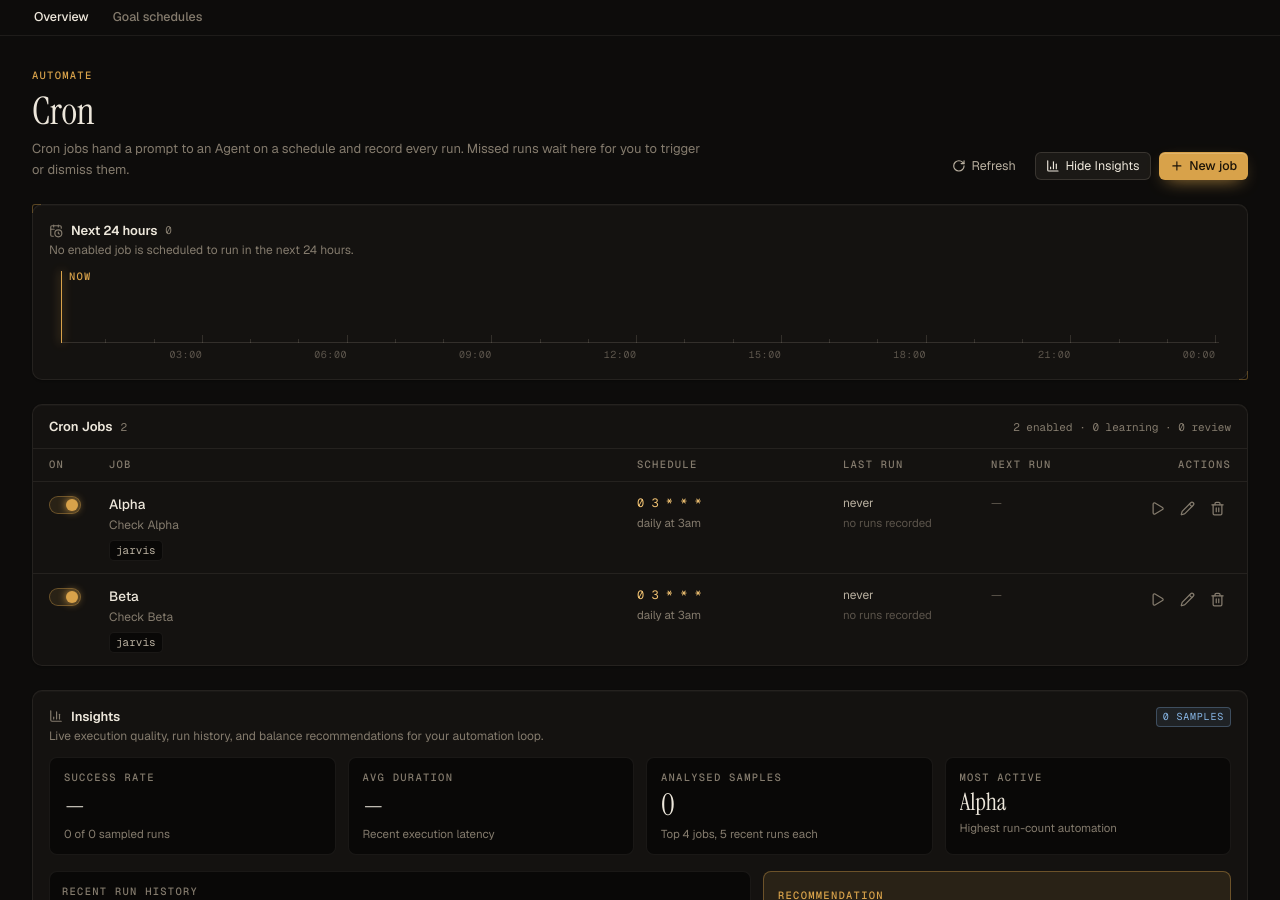
Test: Cron operational mutation coordination › requires an explicit true result for delete_cron_job
Expected: the 1st text "Alpha" is shown, [109,494,145,514]
Click the button named "Delete Alpha" at (1217, 508), box [1203,494,1231,522]
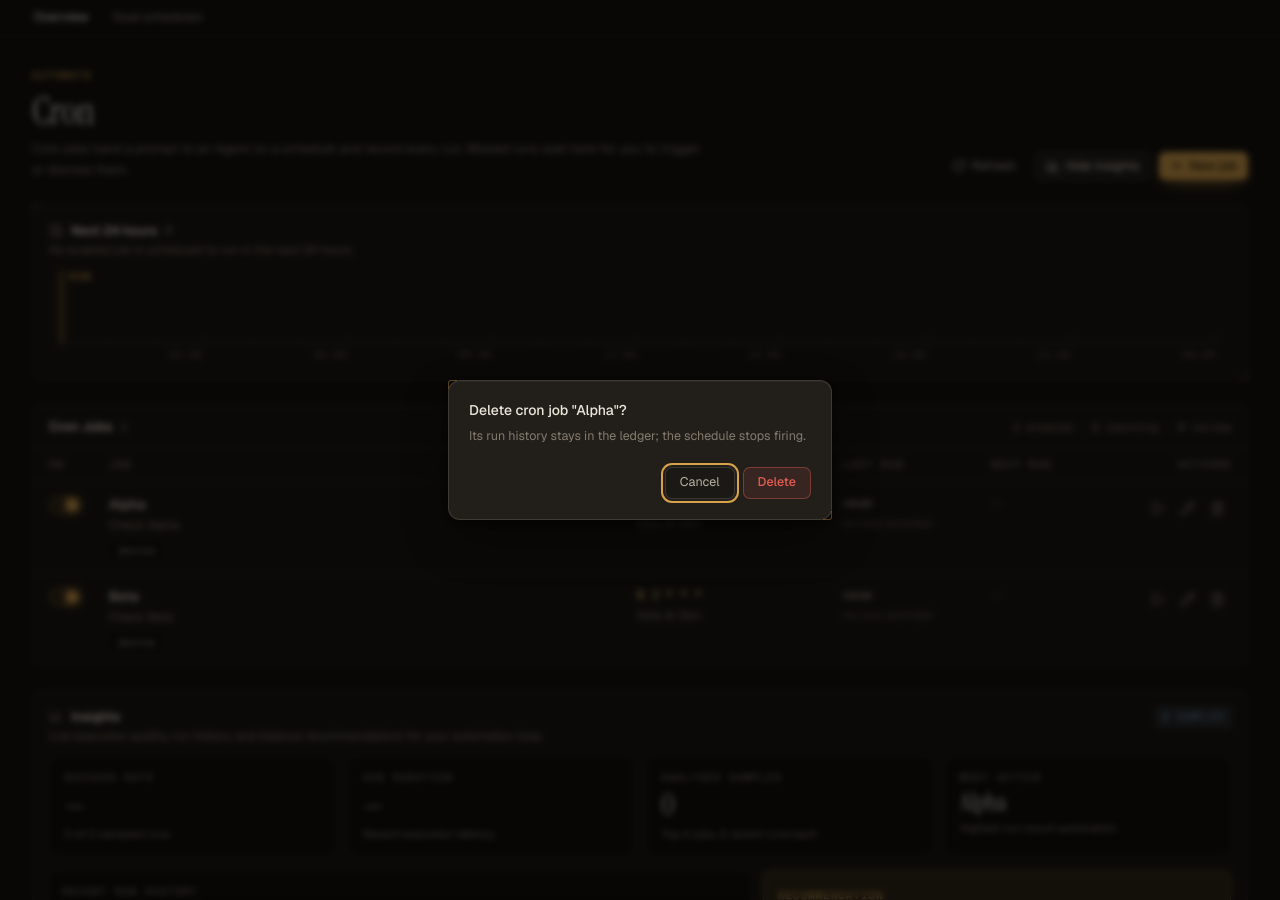
Click the button "Delete" at (777, 483), box [742,467,811,499]
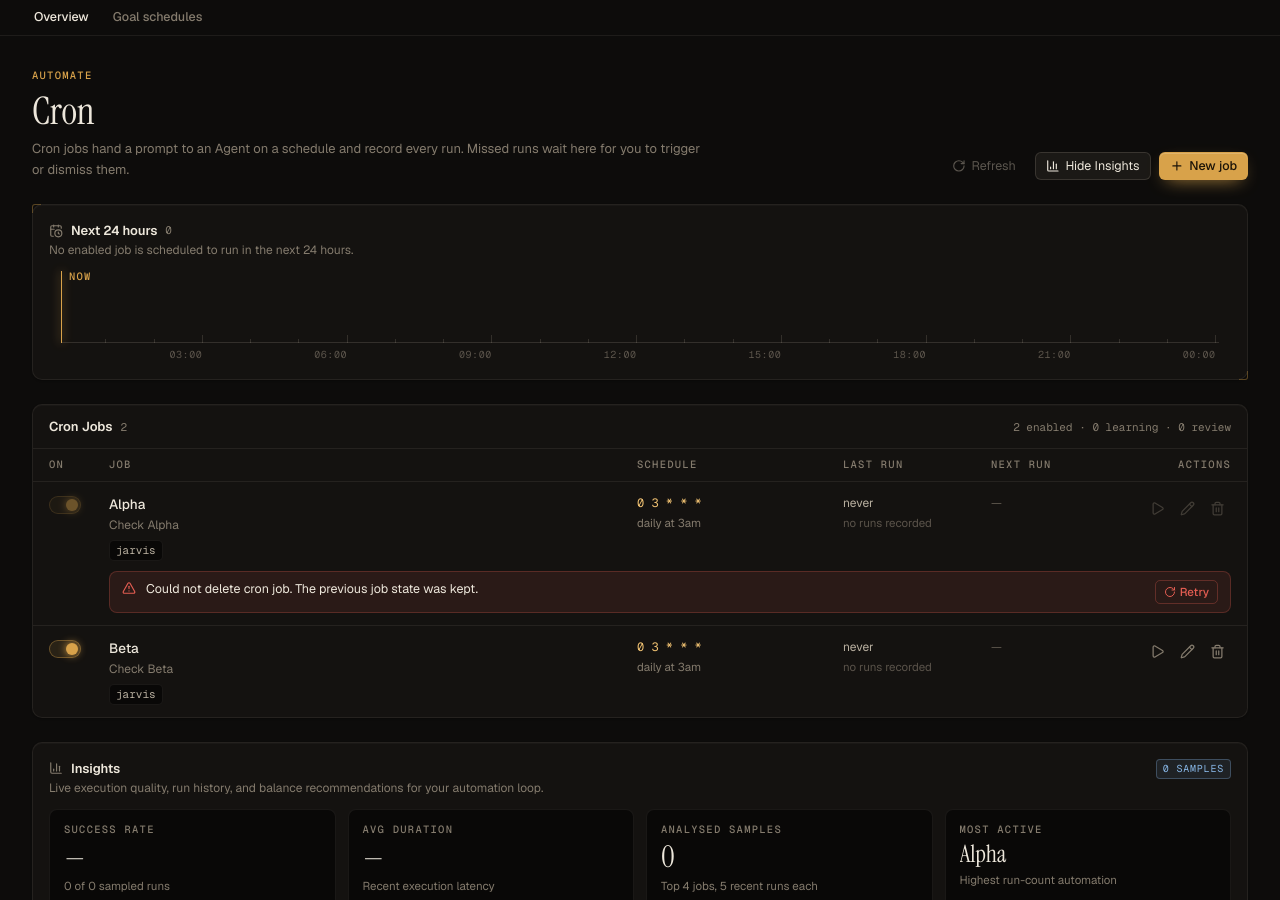
Expected: the 1st text "Alpha" is shown, [109,494,145,514]
Expected: the message named "Cron job operation" shows "Could not delete cron job", [146,580,478,597]
